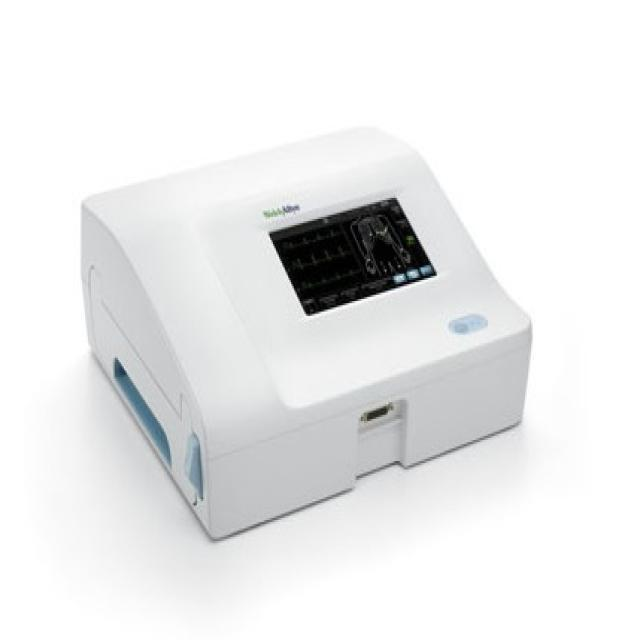Monitor: (79, 120, 533, 541)
